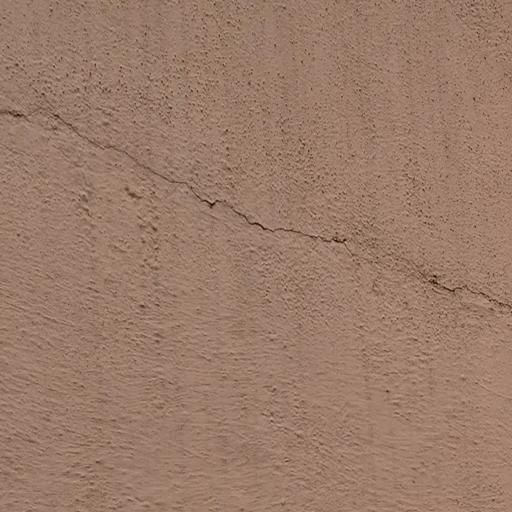minor_crack: (0, 52, 512, 314)
